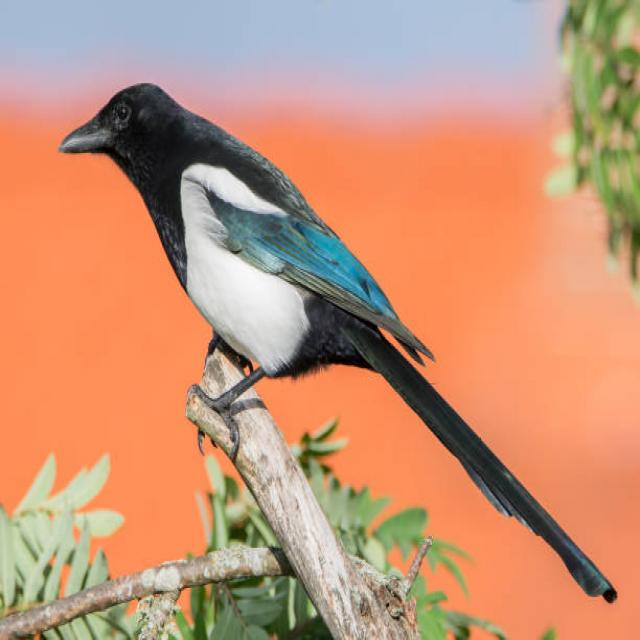Magpie: (59, 84, 620, 607)
